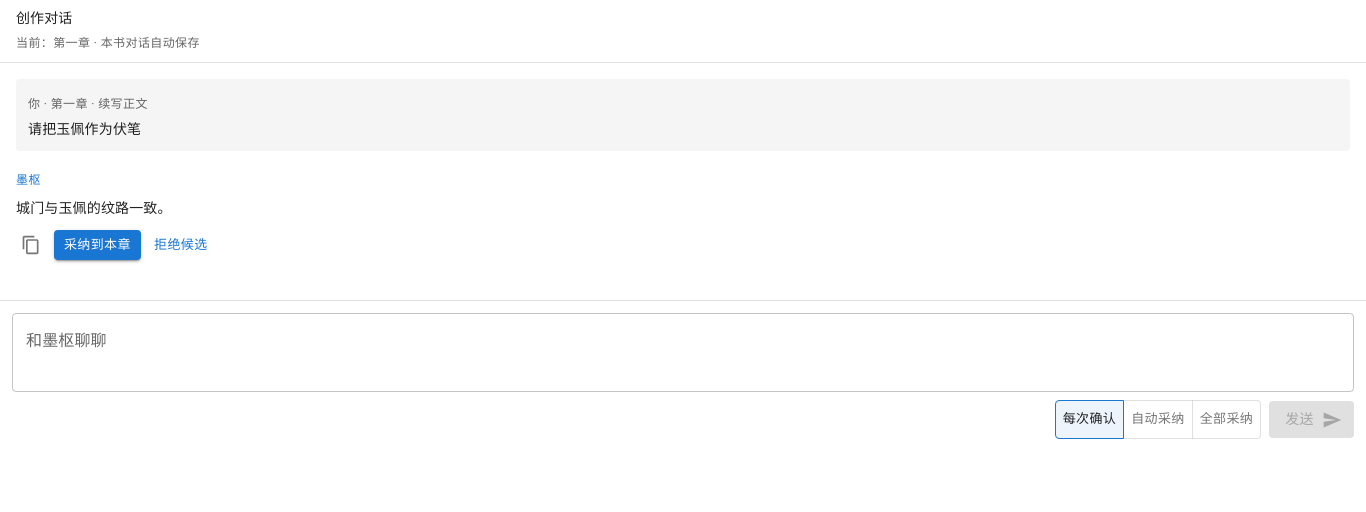
Test case: 服务端候选确认 › 正文与候选基础不一致时提示先保存，不发采纳请求
Step 1. Click the button "采纳到本章" → (97, 245), box x1=54 y1=230 x2=141 y2=260
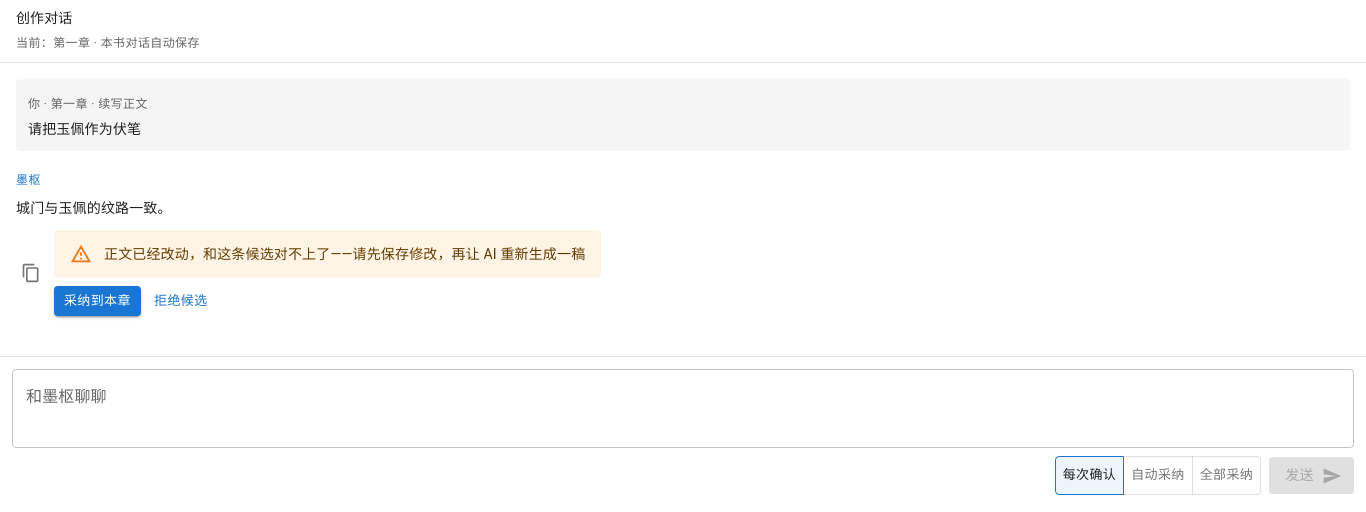
Expected: the text "正文已经改动，和这条候选对不上了——请先保存修改，再让 AI 重新生成一稿" is shown, x1=104 y1=246 x2=585 y2=262
